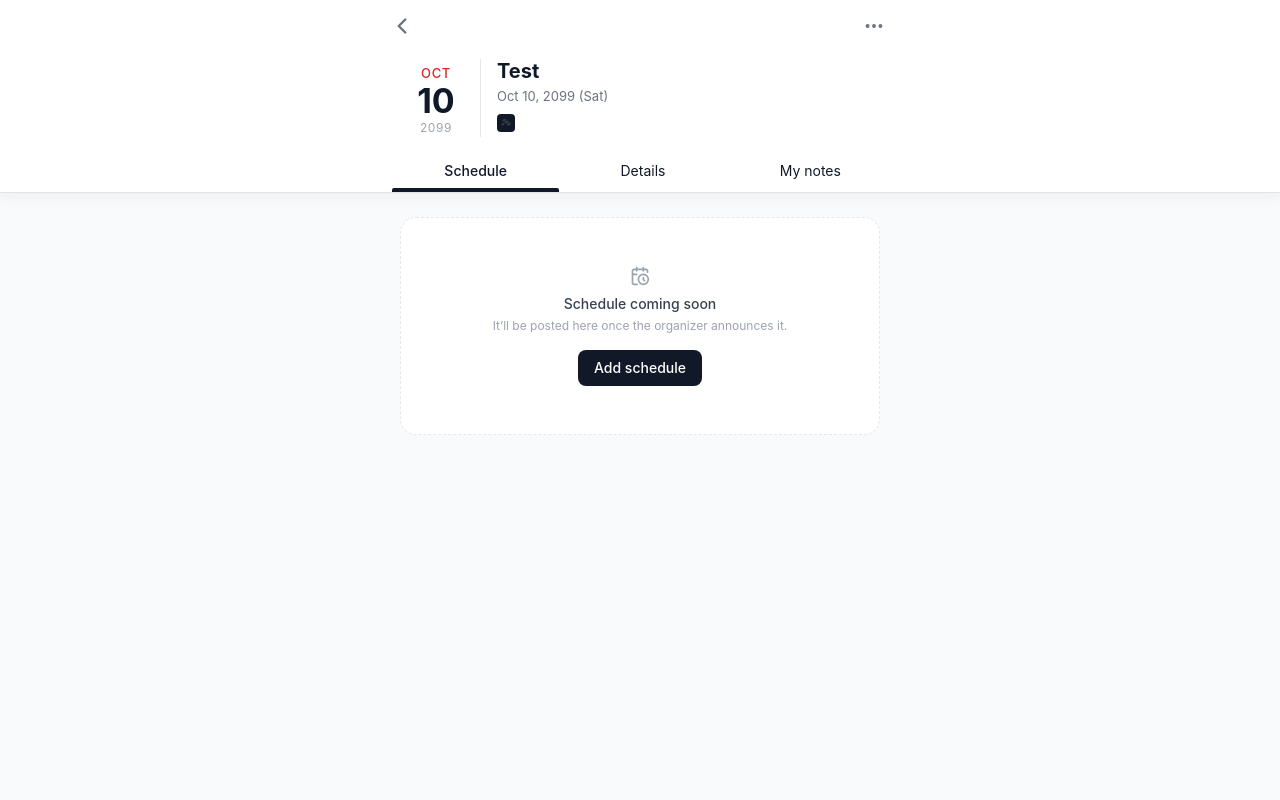
it: deleting an event from the header menu (#229, #216, #232) › lists Share first, then the admin items (#273); Switch driver is the app menu’s (#399)
Click the button named "More actions" at (874,26), box [856, 8, 892, 44]
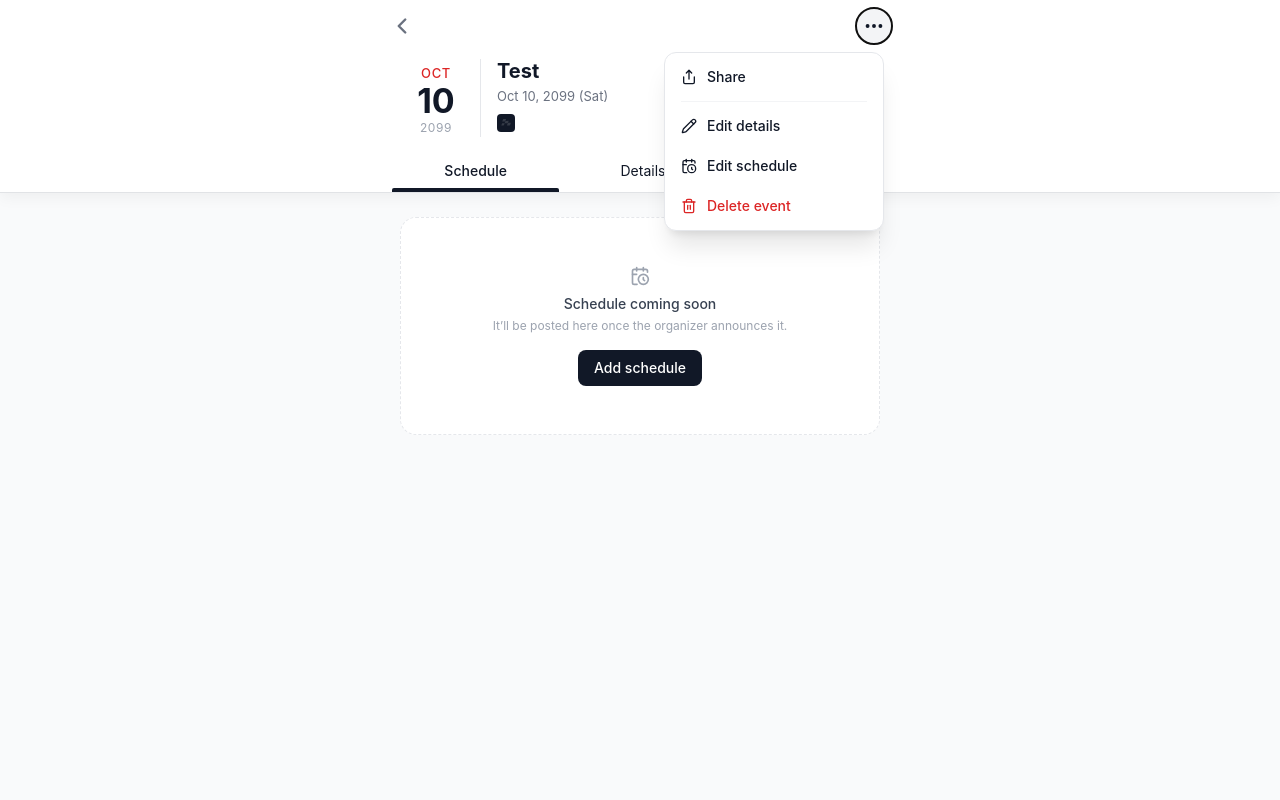
Expected: the menu items read "Share", "Edit details", "Edit schedule", "Delete event", in this order, [669, 57, 879, 97]; [669, 106, 879, 146]; [669, 146, 879, 186]; [669, 186, 879, 226]
